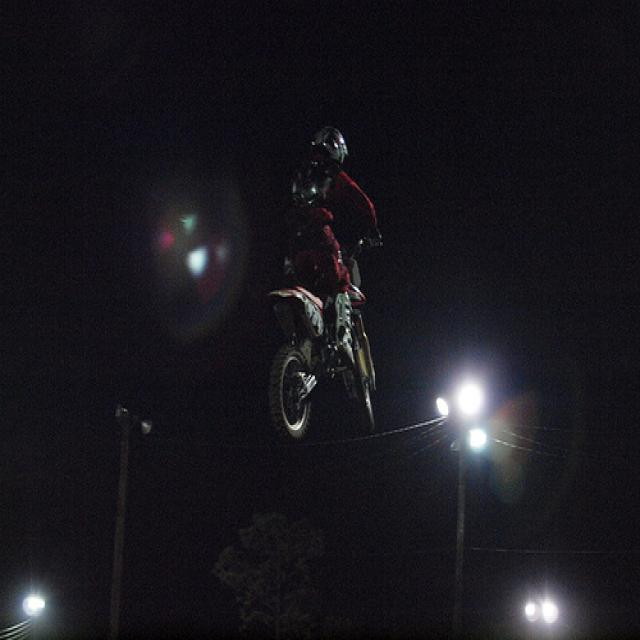Motorbike: (245, 233, 395, 447)
